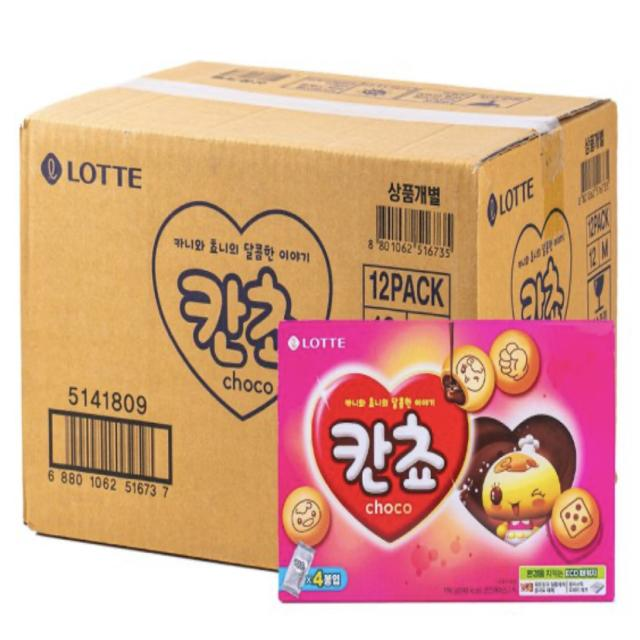biodegradable: (8, 33, 632, 596), (261, 298, 631, 616)
